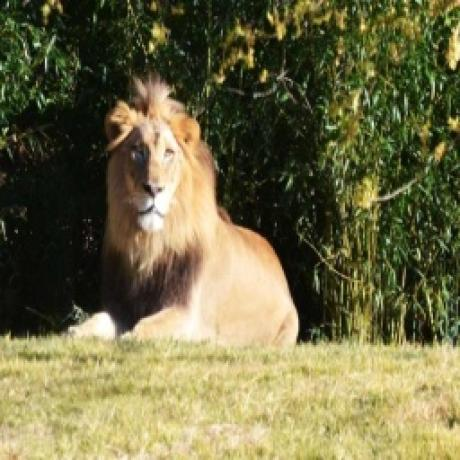Lion: (68, 78, 303, 345)
